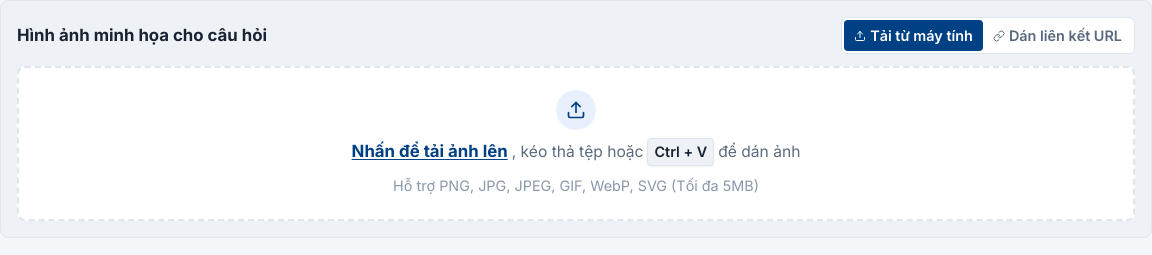
it: ImageUploader Component › focuses the dropzone when clicked and displays focus feedback
Click to focus
Click the element named "Khu vực tải lên hình ảnh" at (576,143), box [17, 66, 1135, 221]
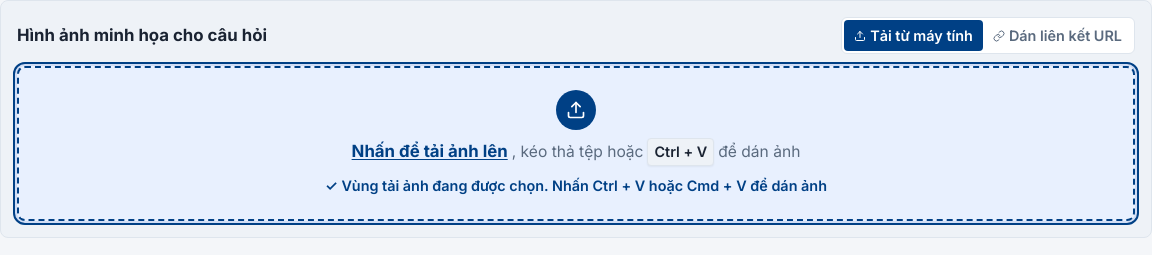
expect the text "✓ Vùng tải ảnh đang được chọn. Nhấn Ctrl + V hoặc Cmd + V để dán ảnh" is shown: met, box [325, 174, 827, 197]
